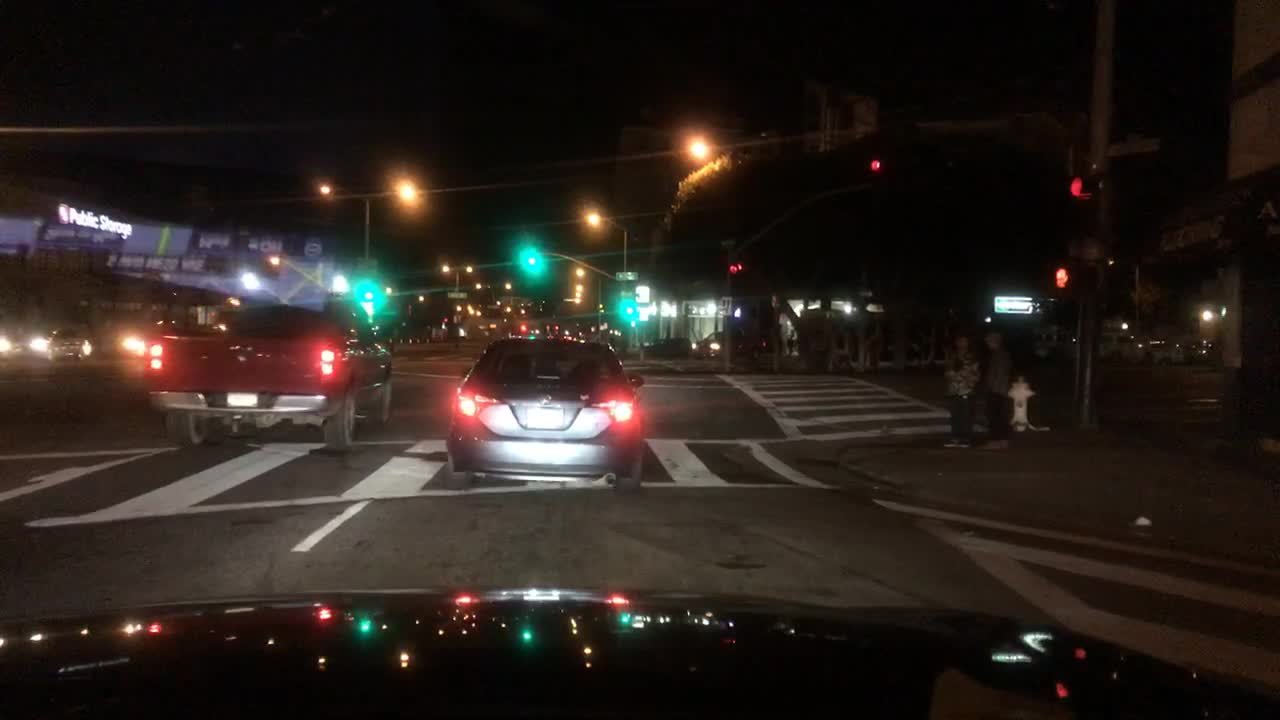car: (445, 339, 646, 490), (1100, 328, 1156, 366), (43, 325, 93, 363), (689, 335, 767, 357), (0, 323, 48, 357), (1032, 324, 1077, 358), (1149, 333, 1192, 364), (640, 335, 695, 357), (116, 327, 149, 358), (1190, 335, 1222, 362), (398, 325, 426, 349), (426, 321, 447, 343)
person: (941, 329, 980, 451), (984, 329, 1014, 449)
traffic light: (1053, 261, 1099, 295), (867, 148, 889, 193), (1068, 170, 1094, 203), (355, 279, 379, 310), (618, 299, 640, 323), (522, 246, 541, 270), (727, 264, 740, 275), (518, 323, 527, 333)
traffic sign: (1106, 131, 1159, 157), (994, 295, 1036, 315), (613, 272, 639, 283), (719, 297, 735, 313), (447, 292, 471, 299)
truck: (144, 302, 393, 453)
